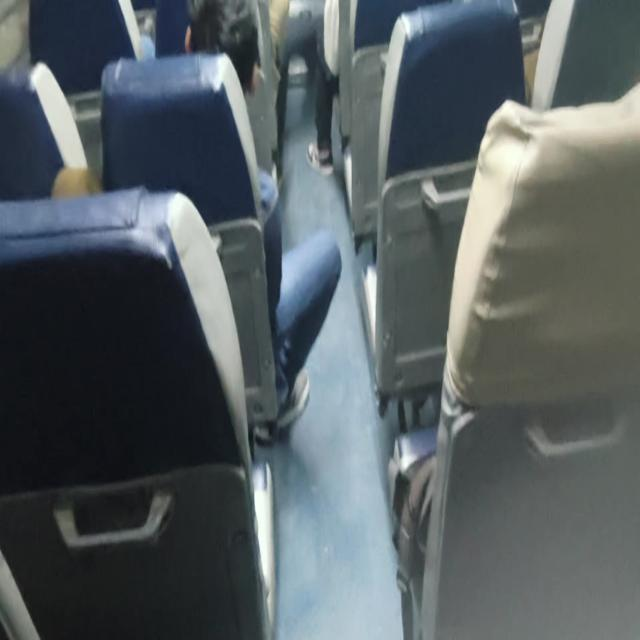person: (188, 0, 262, 128)
